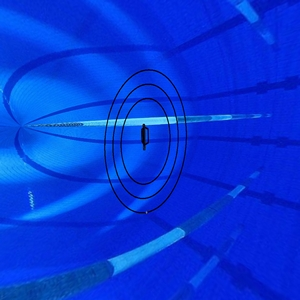circle: (102, 63, 191, 219)
submarine: (135, 119, 154, 156)
